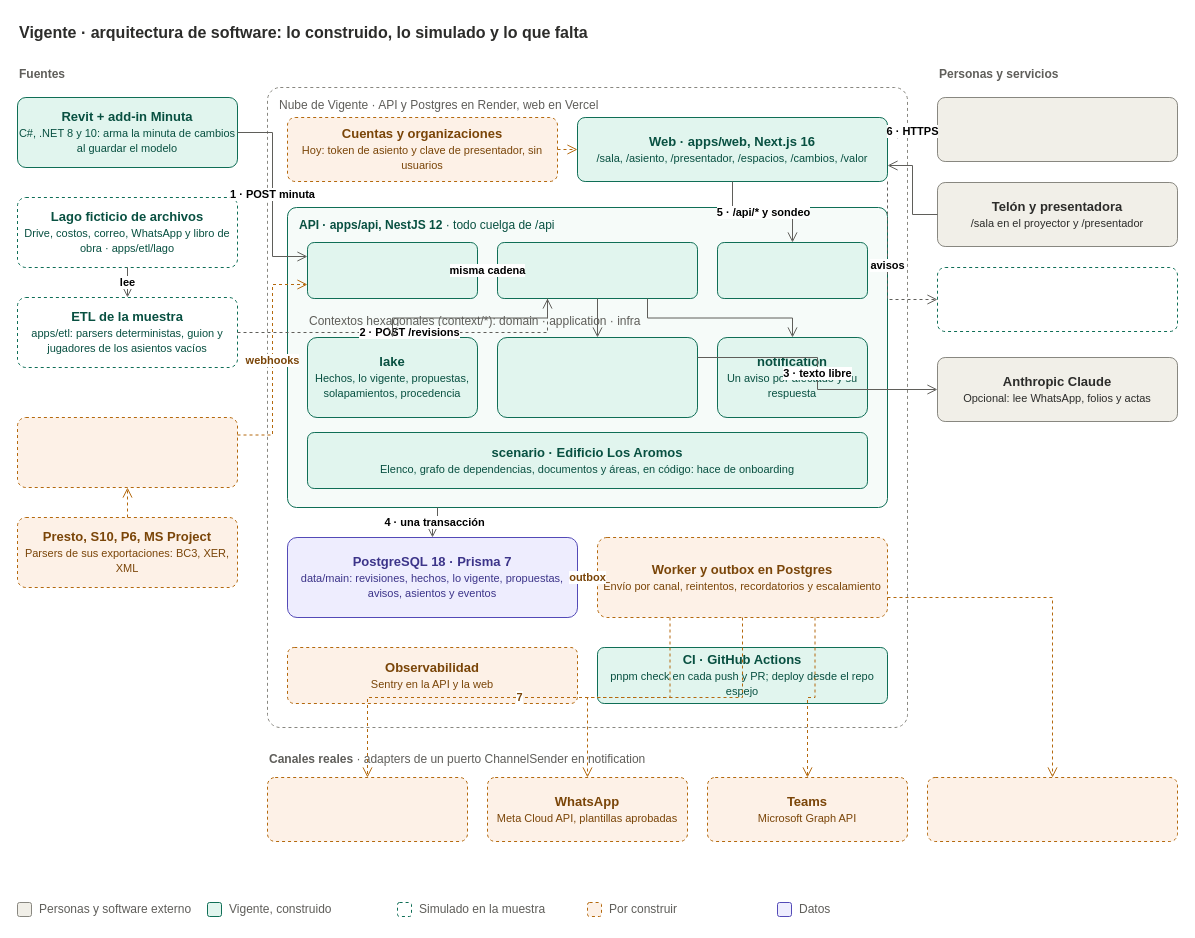
Some shapes in this 1195 by 938 pixel diagram are drawn without their labels. The shapes that lost their labels are listed below. From the top down, each one's centre as x and y in pixels, then its label:
At (1057,129): "Afectados En el celular, bandeja con el look de su canal".
At (392,270): "integrations Minuta de Revit".
At (597,270): "coordination Orquesta la cadena".
At (792,270): "room Asientos, eventos, reinicio".
At (1057,299): "Canales simulados Maquetas de correo, WhatsApp y Slack dentro de la web".
At (597,377): "impact Dependencias, costo y plazo por reglas; lee texto libre; probabilidad".
At (127,452): "Autodesk ACC · APS OAuth, tokens cifrados, webhooks y AEC Data Model".
At (367,809): "Correo Resend".
At (1052,809): "ACC Issues La herramienta del afectado".
